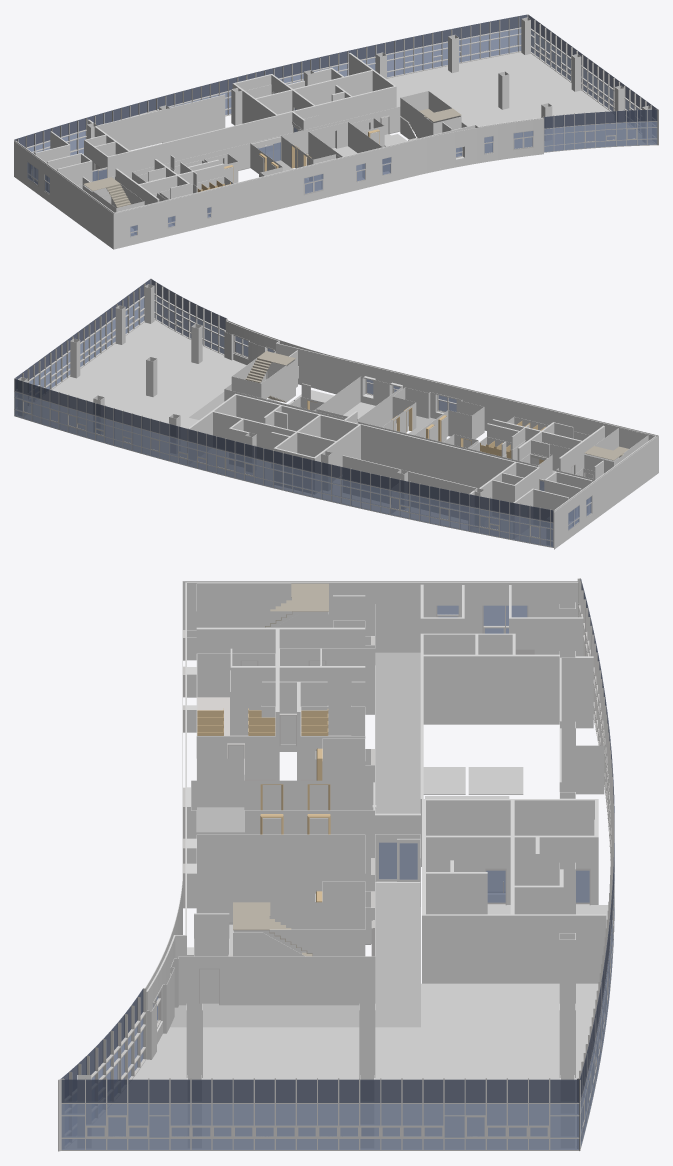
The picture shows the model from 3 angles, top to bottom: view 1: azimuth 30°, elevation 25°; view 2: azimuth 150°, elevation 25°; view 3: azimuth 270°, elevation 25°; orthographic projection. The views are drawn at different scales.
Visible parts, largest first — view 1: A8_9F_Wall, A8_9F_Window, A8_9F_outWall, A8_9F_Floor, A8_9F_Pillar, A8_9F_Stairs, A8_9F_ELEV, A8_9F_Door, A8_9F_AutomaticDoor; view 2: A8_9F_Wall, A8_9F_Window, A8_9F_Floor, A8_9F_outWall, A8_9F_Pillar, A8_9F_Stairs, A8_9F_ELEV, A8_9F_Door; view 3: A8_9F_Wall, A8_9F_Floor, A8_9F_Window, A8_9F_Pillar, A8_9F_ELEV, A8_9F_Stairs, A8_9F_Door, A8_9F_AutomaticDoor, A8_9F_Toilet, A8_9F_outWall, A8_9F_GlassDoor.
Boxes of the visible parts, left/top/right/bottom form: A8_9F_Wall: left=15, top=53, right=543, bottom=235; A8_9F_Window: left=14, top=14, right=658, bottom=237; A8_9F_outWall: left=14, top=118, right=543, bottom=249; A8_9F_Floor: left=31, top=52, right=652, bottom=191; A8_9F_Pillar: left=87, top=17, right=651, bottom=143; A8_9F_Stairs: left=83, top=108, right=461, bottom=207; A8_9F_ELEV: left=224, top=129, right=379, bottom=182; A8_9F_Door: left=95, top=115, right=458, bottom=203; A8_9F_AutomaticDoor: left=251, top=123, right=301, bottom=163; A8_9F_Wall: left=188, top=321, right=656, bottom=545; A8_9F_Window: left=14, top=278, right=591, bottom=547; A8_9F_Floor: left=25, top=320, right=555, bottom=544; A8_9F_outWall: left=227, top=320, right=658, bottom=549; A8_9F_Pillar: left=18, top=284, right=484, bottom=525; A8_9F_Stairs: left=245, top=351, right=628, bottom=460; A8_9F_ELEV: left=307, top=400, right=471, bottom=448; A8_9F_Door: left=267, top=369, right=593, bottom=527; A8_9F_Wall: left=146, top=582, right=606, bottom=1059; A8_9F_Floor: left=68, top=652, right=608, bottom=1147; A8_9F_Window: left=58, top=578, right=614, bottom=1151; A8_9F_Pillar: left=77, top=651, right=575, bottom=1147; A8_9F_ELEV: left=260, top=748, right=330, bottom=902; A8_9F_Stairs: left=233, top=583, right=328, bottom=956; A8_9F_Door: left=199, top=636, right=534, bottom=1005; A8_9F_AutomaticDoor: left=372, top=782, right=420, bottom=882; A8_9F_Toilet: left=197, top=708, right=328, bottom=735; A8_9F_outWall: left=145, top=581, right=577, bottom=990; A8_9F_GlassDoor: left=485, top=868, right=590, bottom=905.
Size of the model in its own units: 61.96 by 4.3 by 29.02.
